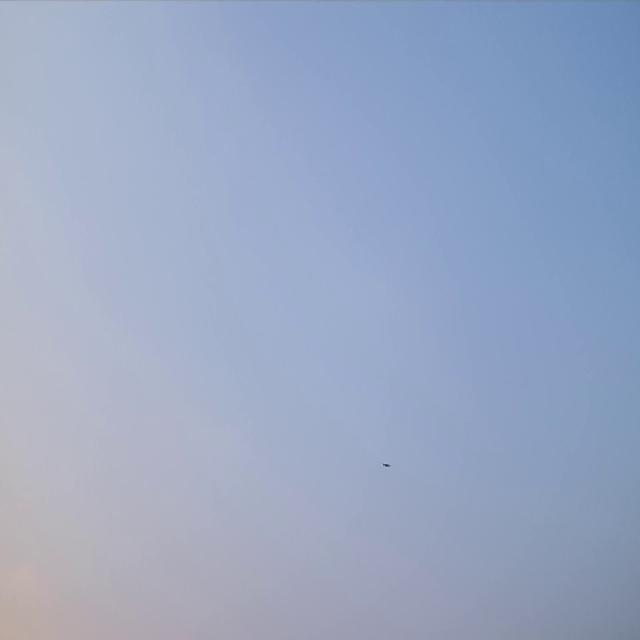UAV: (381, 462, 392, 468)
